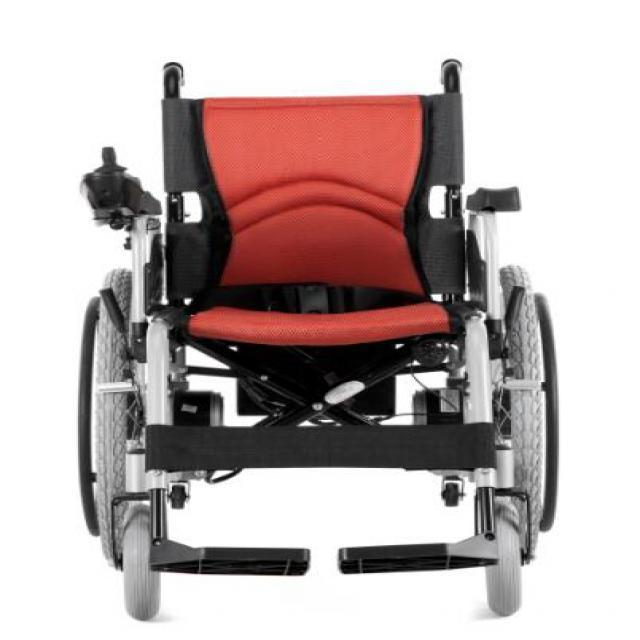wheelchairs: (78, 66, 557, 614)
